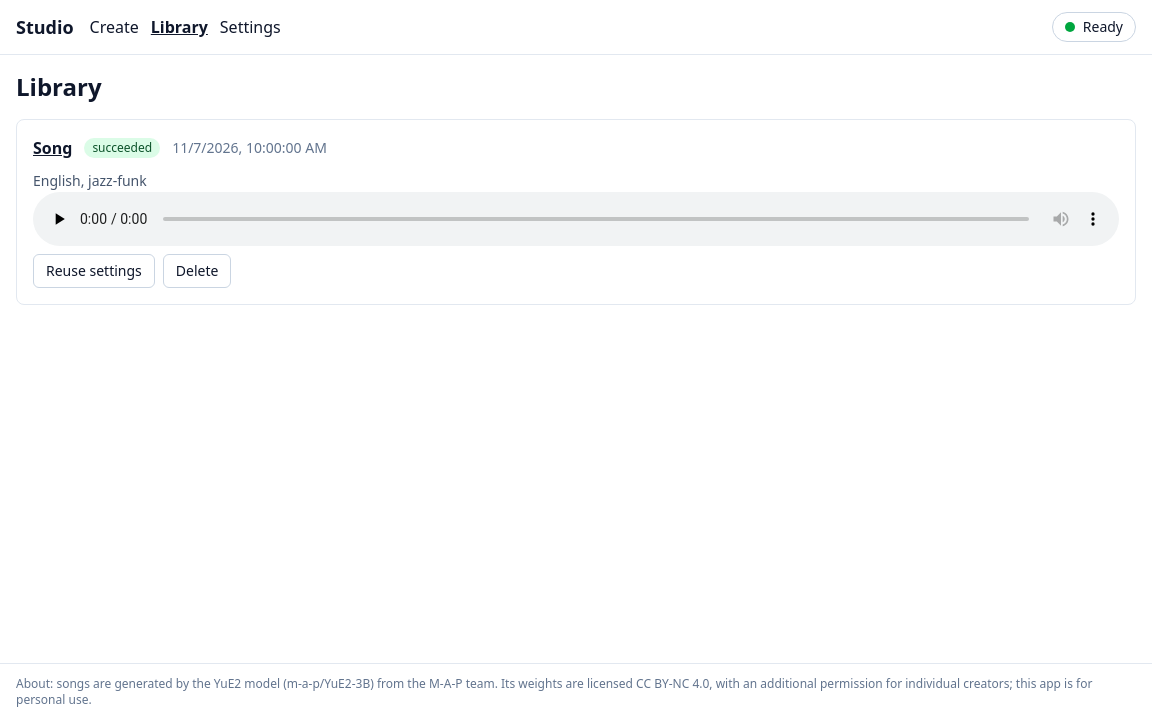
it: Library (U-4) › Delete asks for confirmation; cancelling sends nothing
Later steps or results of the test are not shown.
Click the button with aria-label "Delete Song". click: (197, 271)
box: [163, 254, 231, 288]
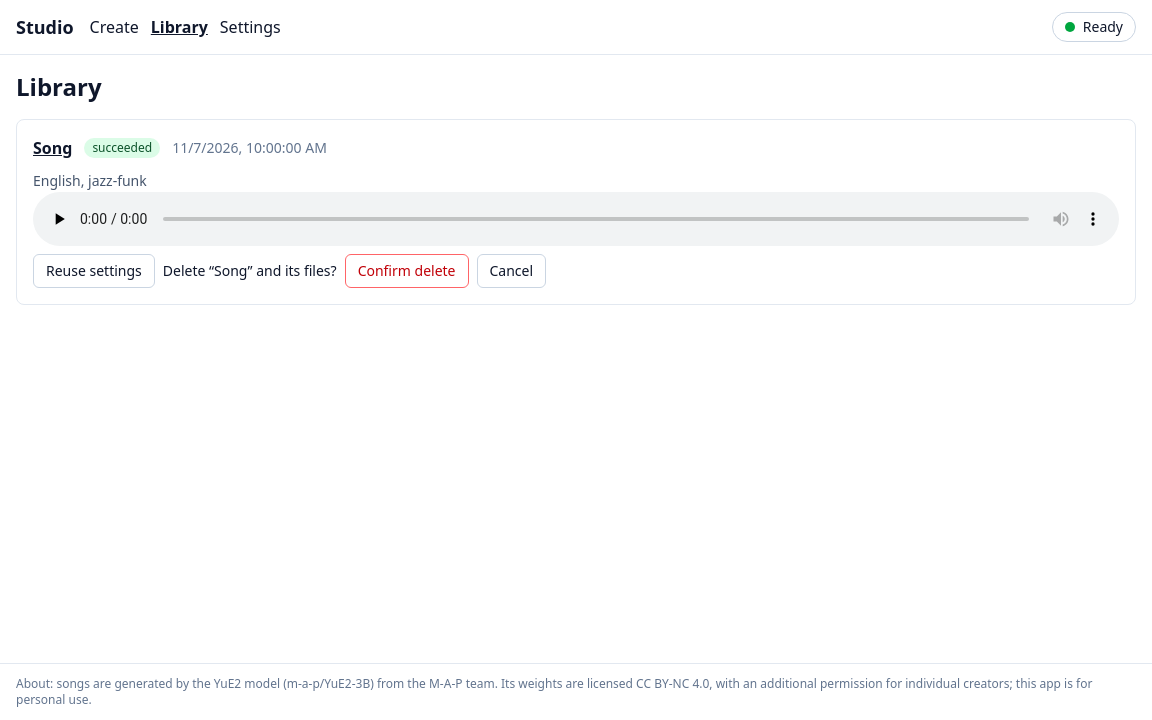
Now the text "Delete “Song” and its files?" is shown, box [163, 261, 337, 281]
